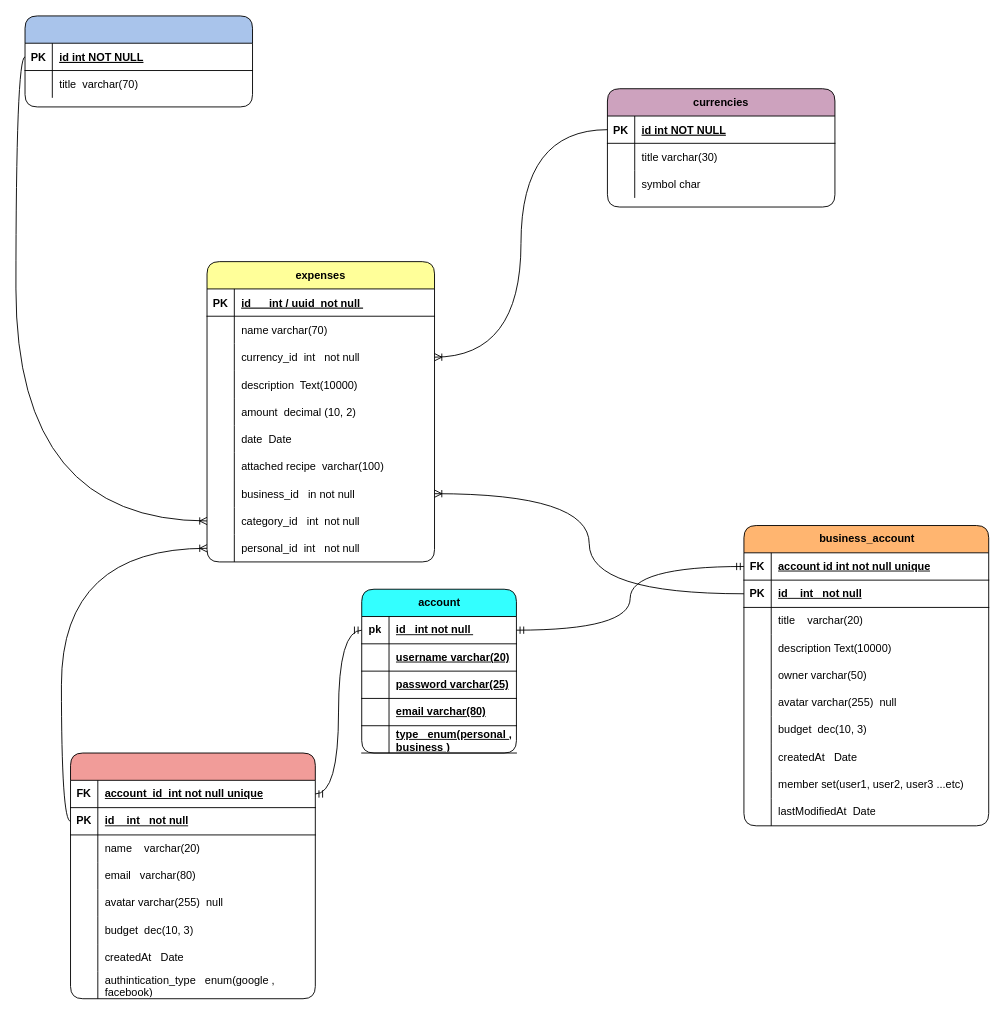
Some shapes in this 1005 by 1015 pixel diagram are drawn without their labels. Each missing label, with the box of its shape:
categories: (24, 15, 253, 107)
personal_account: (70, 752, 315, 999)
